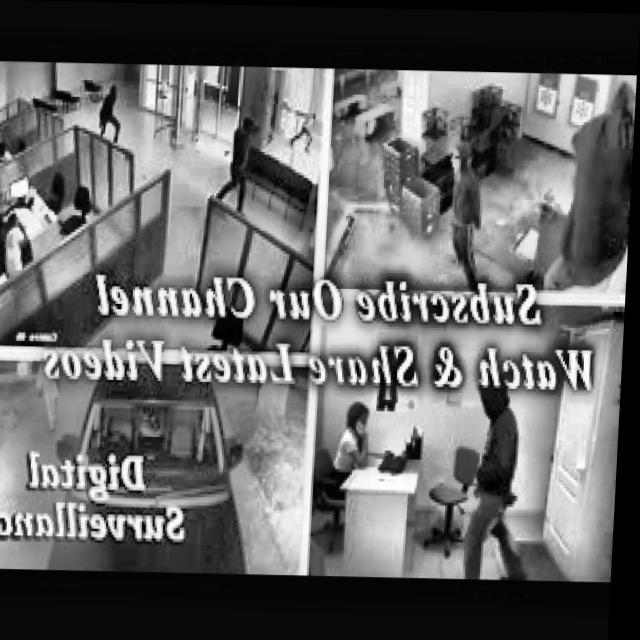burglary: (559, 74, 637, 289), (440, 136, 494, 288)
